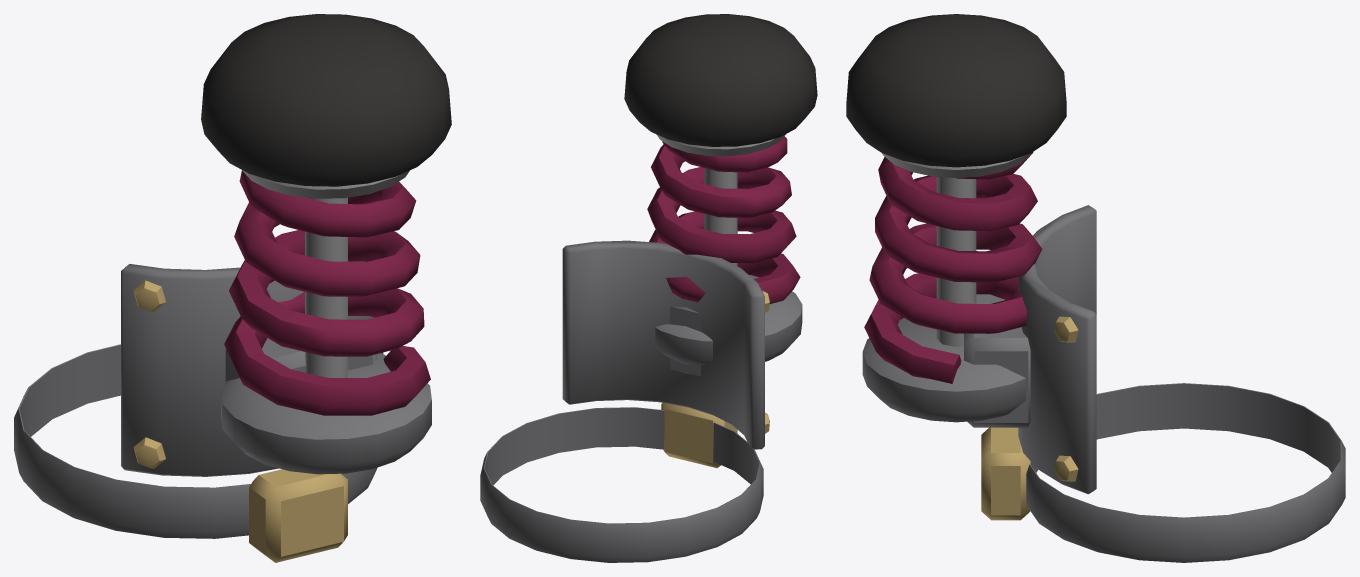
Rendered from Kit_Mod_Bumper.glb.
3 renders of one model, left to right at view 1: azimuth 30°, elevation 25°; view 2: azimuth 150°, elevation 25°; view 3: azimuth 270°, elevation 25°, orthographic. The views are drawn at different scales.
Visible parts, largest first — view 1: Kit_Mod_Bumper; view 2: Kit_Mod_Bumper; view 3: Kit_Mod_Bumper.
Part boxes in pixels (<box>): Kit_Mod_Bumper: <box>14,14,451,562</box>; Kit_Mod_Bumper: <box>480,14,817,562</box>; Kit_Mod_Bumper: <box>846,14,1345,562</box>.
Bounding box in the file's own units: 0.132 × 0.212 × 0.2019.
